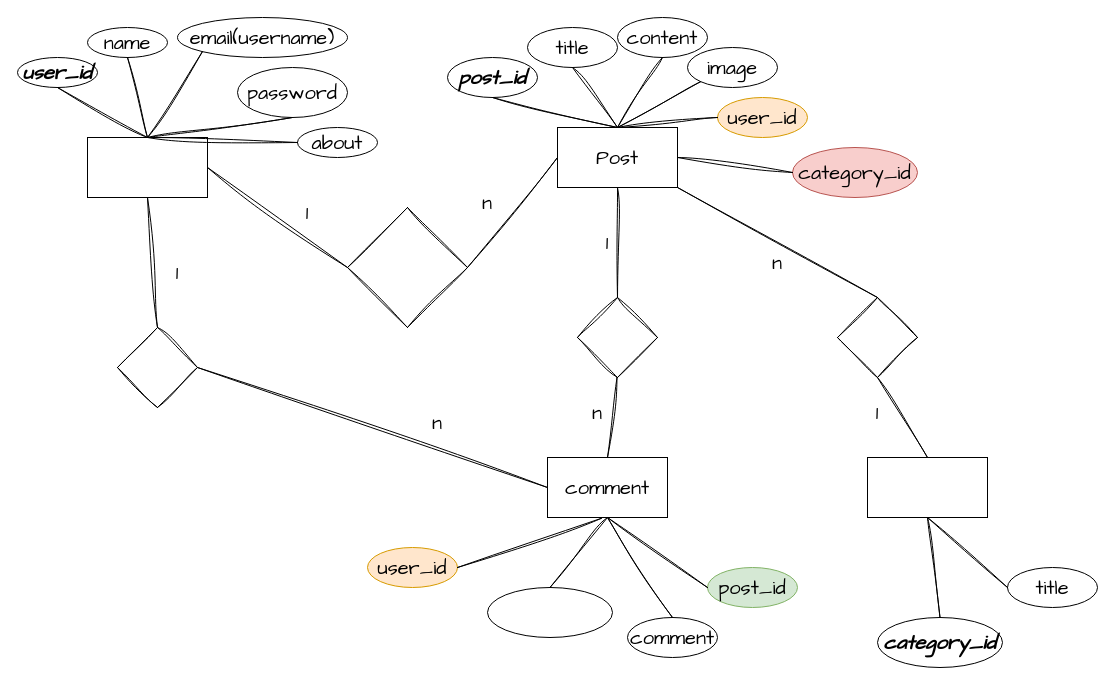
The diagram is 1115 pixels wide and 685 high, and some of its shapes have lost their labels. The box of each missing label's shape, as (x1, y1, x2, y2) in pixels:
can create: (346, 206, 468, 328)
category: (866, 456, 988, 518)
comment_id: (486, 586, 612, 638)
contain: (836, 296, 918, 378)
do: (116, 326, 198, 408)
have: (576, 296, 658, 378)
user: (86, 136, 208, 198)
